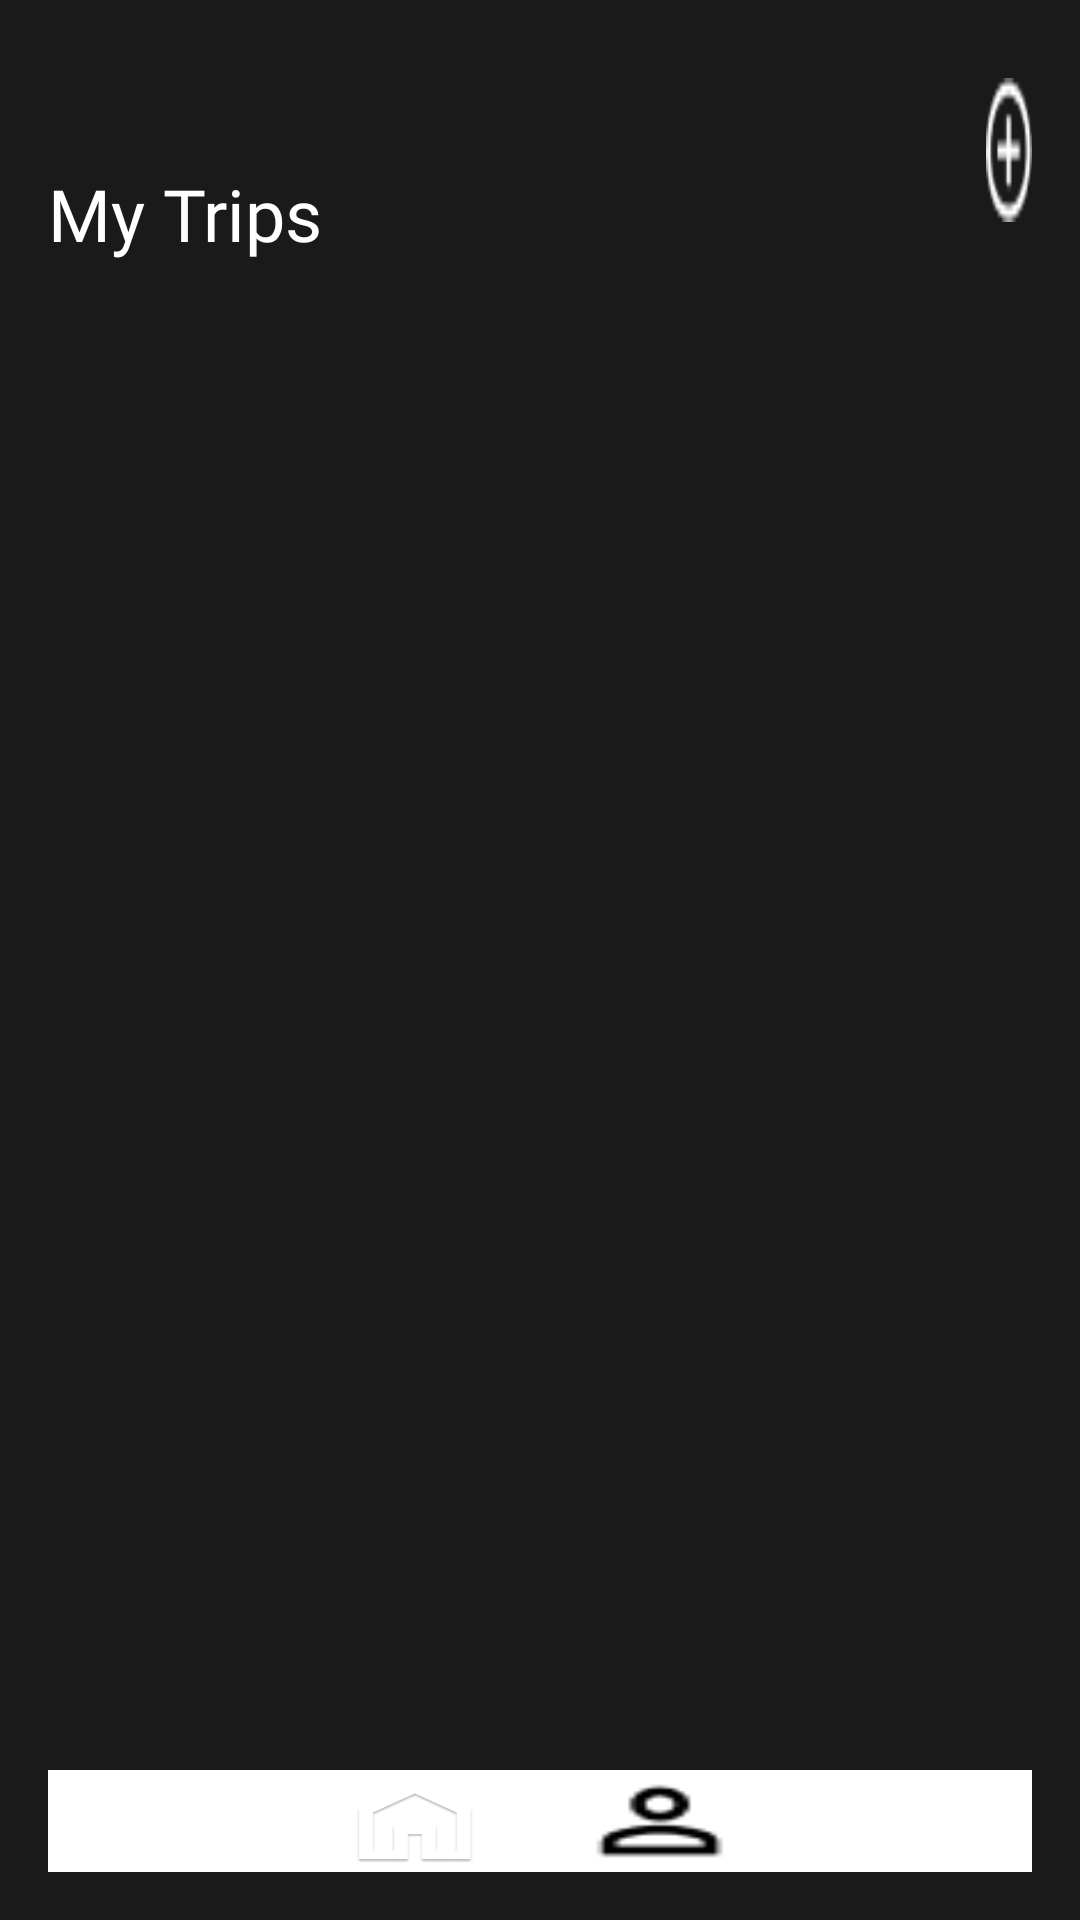

Where icons sit on this 1080 × 1920 app screen, as (x1, y1, x2, y2):
home: (359, 1793, 471, 1862)
person: (597, 1785, 722, 1857)
